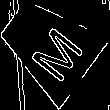M_NW: (16, 13, 81, 79)
